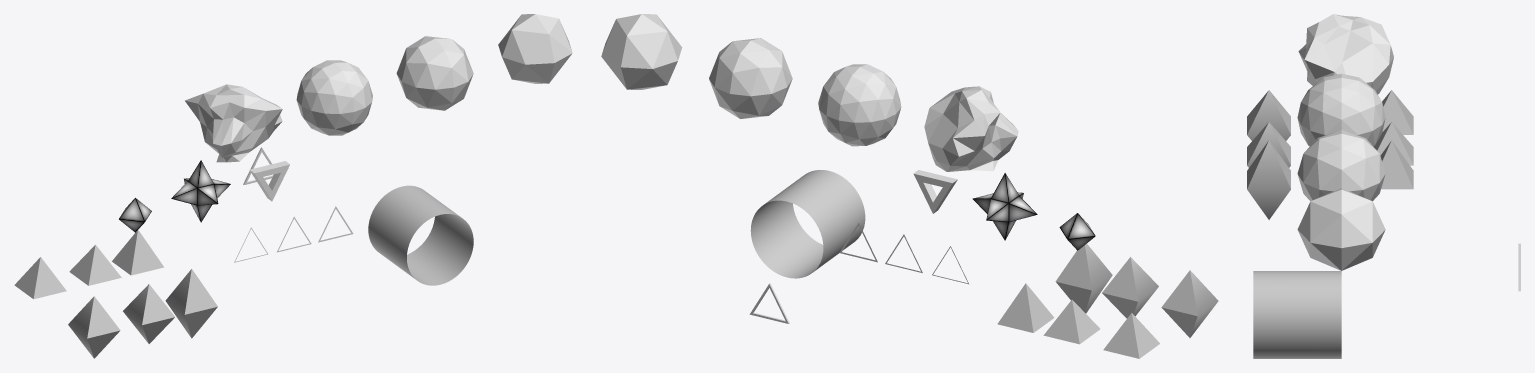
Rendered from meshes_matt.FBX.
3 renders of one model, left to right at view 1: azimuth 30°, elevation 25°; view 2: azimuth 150°, elevation 25°; view 3: azimuth 270°, elevation 25°, orthographic. The views are drawn at different scales.
Visible parts, largest first — view 1: discotube, geosphereRes4noisytest, geosphereRes4, geosphereRes3, geosphereRes2, prism_1x1x1, prism_1x1x09, prism_perfect, firework2, pyramid_1x1x1, pyramid_1x1x09, pyramid_perfecttri (+2 smaller); view 2: discotube, geosphereRes4noisytest, geosphereRes4, geosphereRes3, geosphereRes2, prism_1x1x1, prism_1x1x09, prism_perfect, firework2, pyramid_1x1x1, pyramid_1x1x09, pyramid_perfecttri (+2 smaller); view 3: discotube, geosphereRes4noisytest, geosphereRes2, geosphereRes3, geosphereRes4, prism_1x1x1, prism_1x1x09, pyramid_1x1x1, prism_perfect, pyramid_1x1x09, pyramid_perfecttri.
Part boxes in pixels (left/top/right/bottom): discotube: left=368, top=185, right=473, bottom=285; geosphereRes4noisytest: left=185, top=84, right=282, bottom=162; geosphereRes4: left=296, top=60, right=372, bottom=135; geosphereRes3: left=396, top=36, right=473, bottom=110; geosphereRes2: left=498, top=14, right=572, bottom=83; prism_1x1x1: left=165, top=269, right=217, bottom=338; prism_1x1x09: left=68, top=296, right=120, bottom=358; prism_perfect: left=123, top=284, right=174, bottom=343; firework2: left=171, top=160, right=230, bottom=222; pyramid_1x1x1: left=112, top=230, right=164, bottom=275; pyramid_1x1x09: left=14, top=257, right=66, bottom=299; pyramid_perfecttri: left=69, top=245, right=121, bottom=285; discotube: left=750, top=170, right=865, bottom=278; geosphereRes4noisytest: left=924, top=86, right=1018, bottom=171; geosphereRes4: left=818, top=64, right=901, bottom=146; geosphereRes3: left=709, top=38, right=792, bottom=118; geosphereRes2: left=601, top=14, right=682, bottom=89; prism_1x1x1: left=1055, top=243, right=1112, bottom=313; prism_1x1x09: left=1161, top=270, right=1218, bottom=337; prism_perfect: left=1102, top=257, right=1158, bottom=318; firework2: left=972, top=173, right=1037, bottom=240; pyramid_1x1x1: left=997, top=283, right=1054, bottom=332; pyramid_1x1x09: left=1103, top=313, right=1159, bottom=358; pyramid_perfecttri: left=1043, top=300, right=1100, bottom=344; discotube: left=1253, top=271, right=1341, bottom=358; geosphereRes4noisytest: left=1298, top=14, right=1393, bottom=94; geosphereRes2: left=1297, top=188, right=1385, bottom=270; geosphereRes3: left=1297, top=129, right=1385, bottom=201; geosphereRes4: left=1297, top=73, right=1385, bottom=146; prism_1x1x1: left=1247, top=140, right=1290, bottom=219; prism_1x1x09: left=1247, top=90, right=1290, bottom=140; pyramid_1x1x1: left=1380, top=140, right=1413, bottom=189; prism_perfect: left=1247, top=122, right=1290, bottom=167; pyramid_1x1x09: left=1382, top=90, right=1413, bottom=134; pyramid_perfecttri: left=1373, top=122, right=1413, bottom=165.
Size of the model in its own units: 156 by 60.84 by 62.1.
